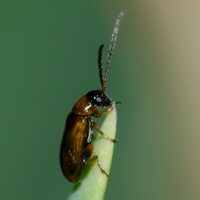insect: (60, 11, 124, 181)
